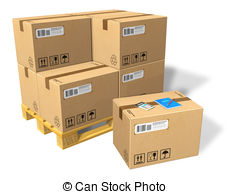box: (16, 64, 116, 123), (116, 97, 203, 162), (11, 17, 95, 65), (92, 11, 167, 63)
box_label: (31, 27, 81, 38), (118, 67, 149, 84), (121, 24, 158, 38), (62, 83, 95, 97), (135, 120, 169, 132)
pallet: (22, 106, 114, 147)
